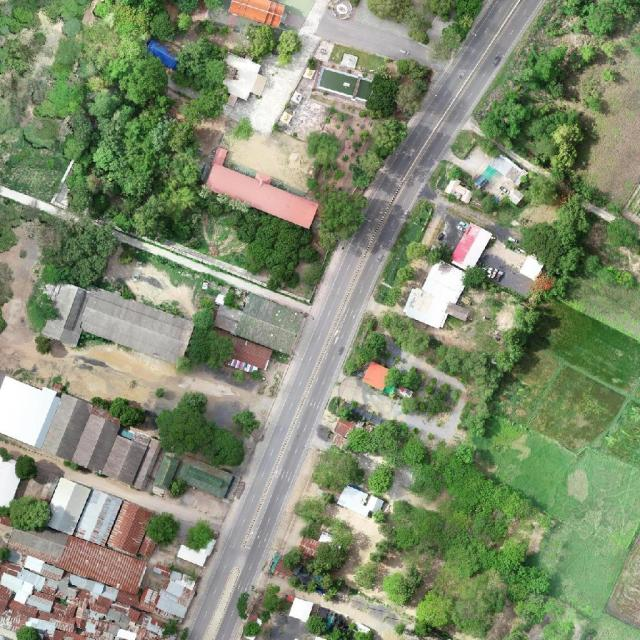agricultural_land: (561, 257, 640, 341)
building: (39, 475, 166, 563), (76, 285, 196, 367), (203, 162, 320, 230), (400, 254, 472, 334), (233, 293, 306, 356), (473, 150, 536, 211), (211, 53, 271, 113), (38, 281, 89, 348), (167, 453, 235, 499), (234, 313, 298, 356), (447, 221, 494, 274), (315, 65, 375, 104), (336, 483, 385, 522), (223, 336, 274, 372), (176, 528, 217, 569), (151, 452, 181, 493), (419, 212, 451, 250), (211, 304, 243, 336), (0, 459, 20, 506), (362, 361, 392, 392), (519, 253, 547, 282), (287, 595, 314, 624), (38, 472, 61, 503)
greenland: (341, 382, 576, 640), (468, 0, 640, 183), (411, 274, 546, 439), (304, 399, 430, 524), (0, 198, 122, 299), (145, 384, 253, 496), (372, 308, 507, 394), (513, 194, 617, 303), (213, 201, 315, 293), (277, 490, 360, 601), (371, 194, 437, 309), (161, 26, 243, 108), (337, 110, 412, 194), (361, 50, 434, 131), (307, 167, 374, 251), (341, 311, 400, 386), (185, 296, 240, 372), (232, 18, 305, 72), (87, 385, 150, 433), (234, 581, 292, 629), (18, 279, 61, 334), (559, 165, 609, 212), (305, 129, 345, 183), (8, 495, 52, 532), (143, 508, 182, 549), (180, 515, 219, 556), (594, 260, 639, 291), (605, 216, 640, 250), (524, 172, 560, 205), (231, 406, 262, 437), (402, 238, 431, 263), (198, 185, 223, 212), (15, 455, 39, 481), (463, 266, 487, 289), (196, 19, 225, 35), (177, 14, 189, 33)
unmetalled_road: (110, 220, 315, 316), (0, 184, 81, 226)
